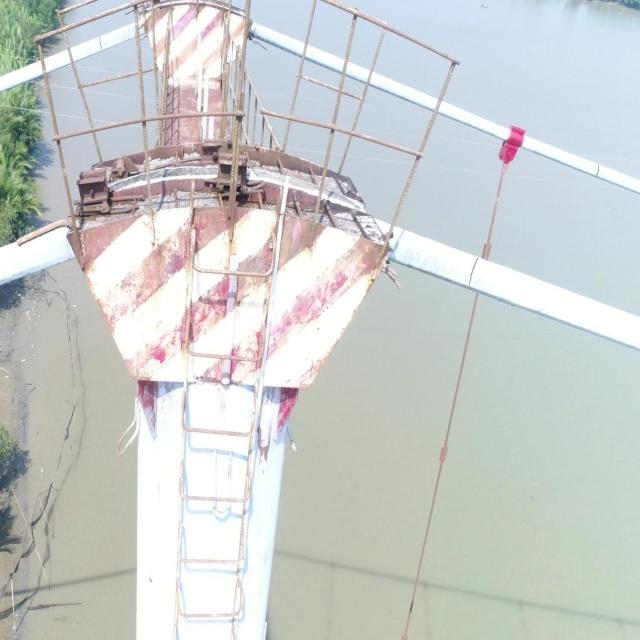crack: (467, 256, 478, 289), (97, 36, 104, 50), (595, 164, 600, 177)
